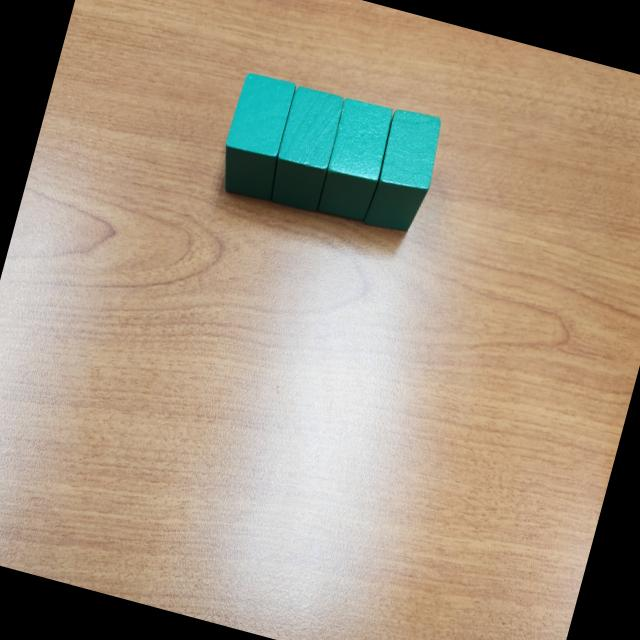green: (212, 69, 303, 204), (362, 104, 448, 238), (312, 95, 398, 228), (266, 82, 346, 214)
